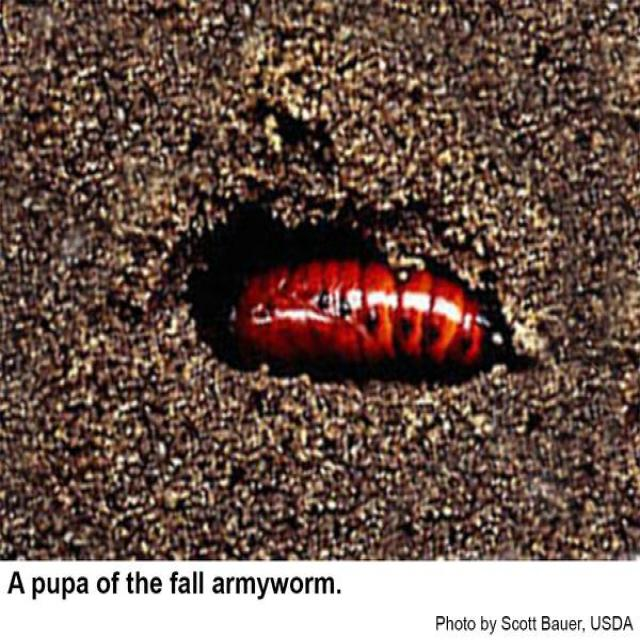armyworm: (217, 242, 527, 390)
